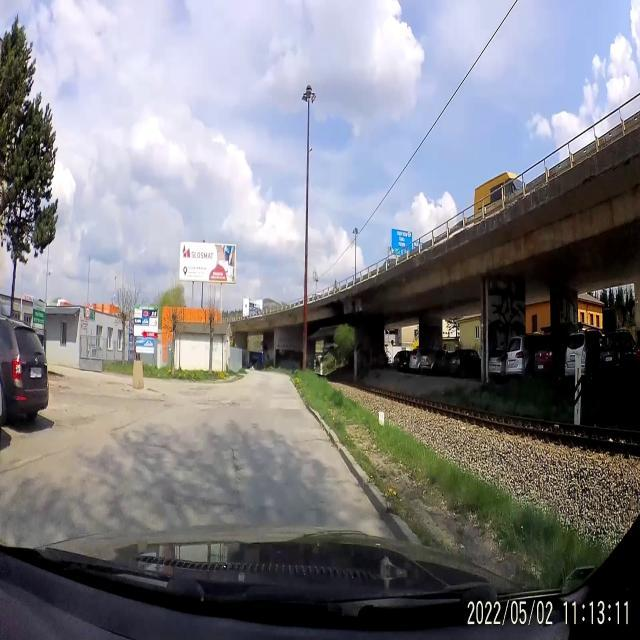Pothole: (226, 441, 249, 502), (302, 434, 330, 446), (221, 396, 241, 410), (146, 386, 160, 396)
